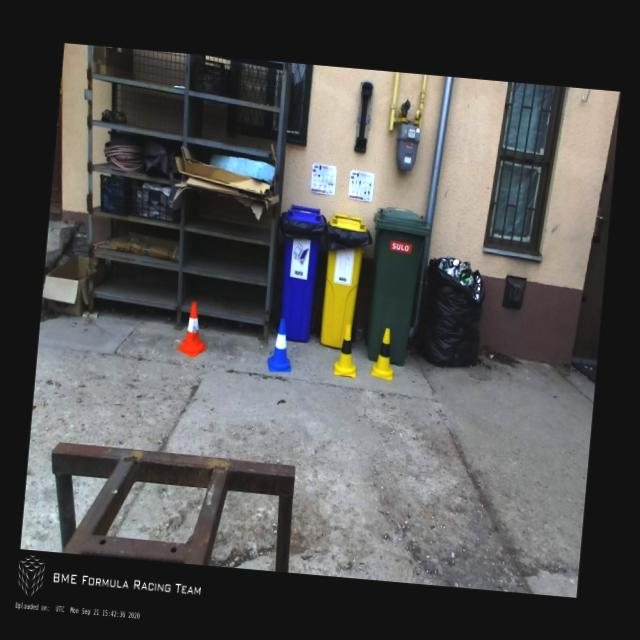blue_cone: (266, 318, 295, 372)
orange_cone: (176, 300, 210, 358)
yellow_cone: (371, 327, 397, 380), (334, 323, 359, 378)
